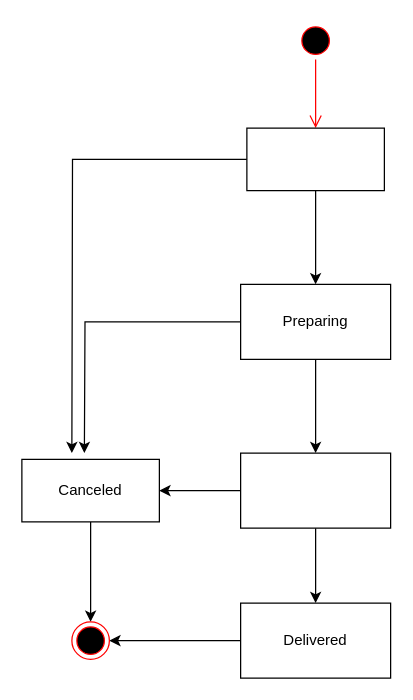
Some shapes in this 413 by 700 pixel diagram are drawn without their labels. Each missing label, with the centre of its shape:
"Confirmed" goes at (315,159).
"OnTheWay" goes at (315,490).
